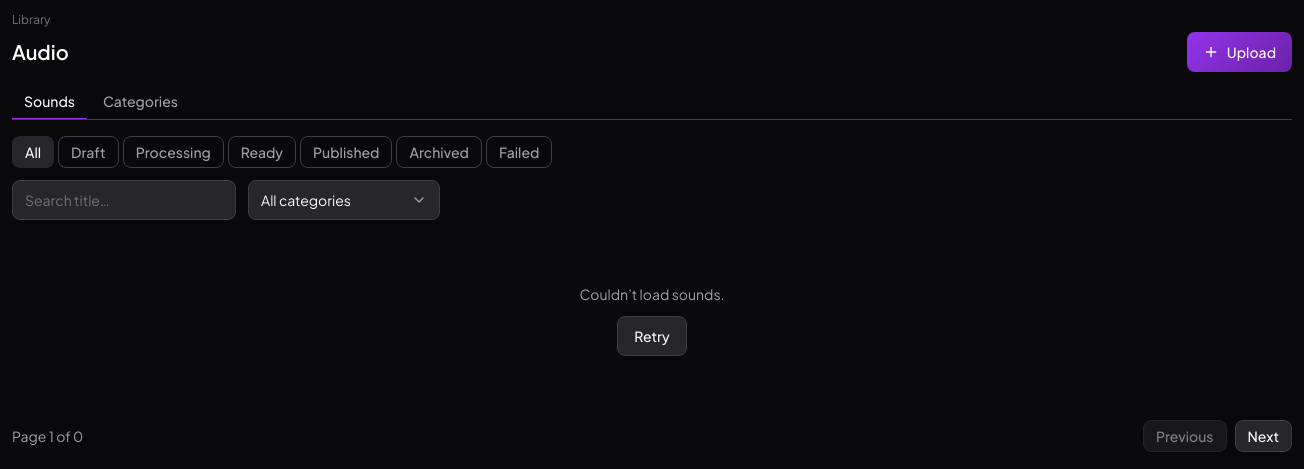
AssetsPageContent load states (T8a) › shows an error with Retry, not the empty state, when the first load fails
The width and height of the screenshot is (1304, 469).
Click the button "Retry".
click(652, 336)  # box [617,316,687,356]
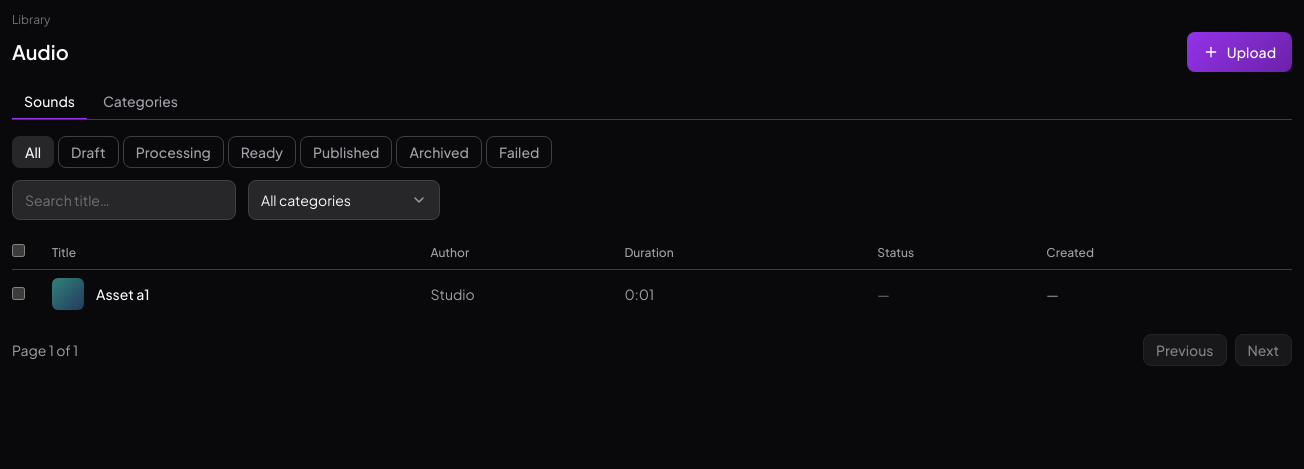
Now the message "Couldn’t load sounds. Retry" is gone
